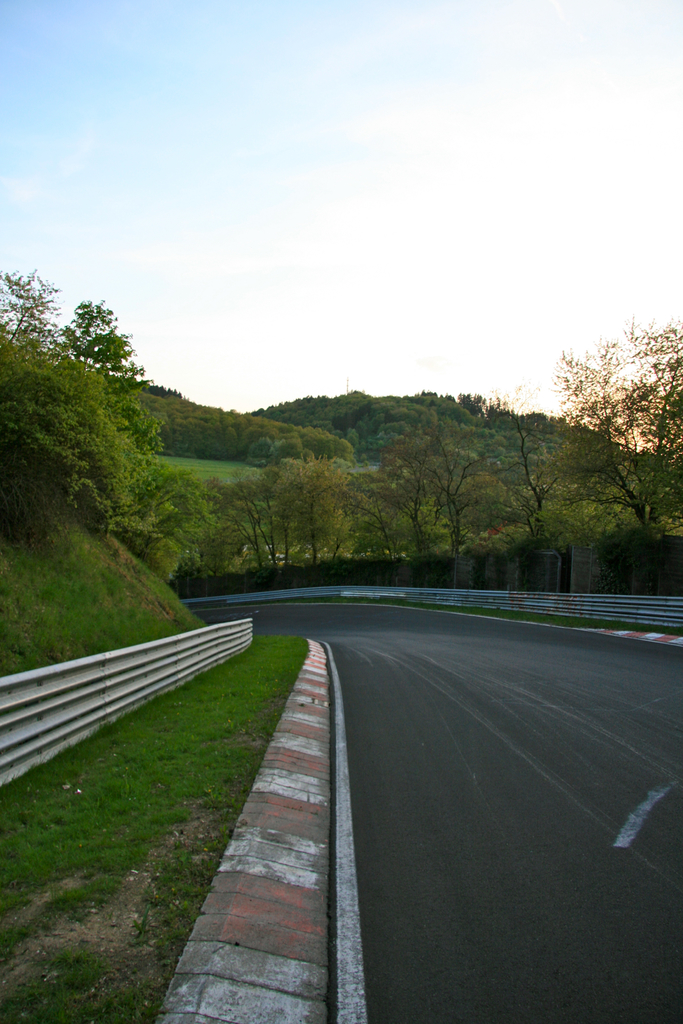Tree: (0, 345, 184, 550), (552, 295, 671, 545), (372, 435, 487, 557), (251, 447, 353, 569), (489, 412, 559, 550), (191, 474, 275, 576), (65, 298, 137, 376), (7, 270, 60, 369)
